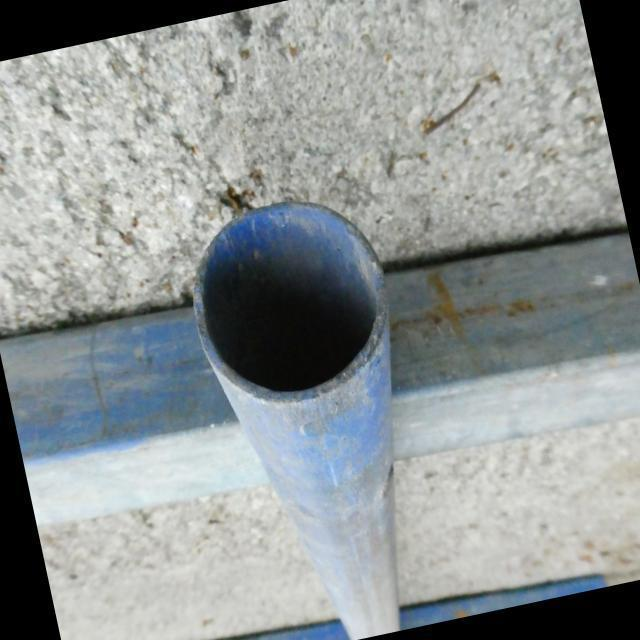pipe: (191, 198, 389, 400)
